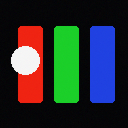2 circle: (11, 46, 39, 74)
